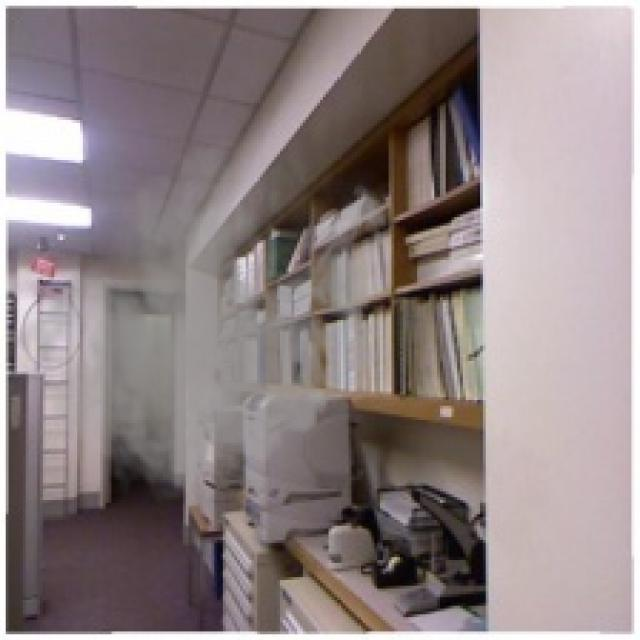smoke: (11, 120, 400, 514)
